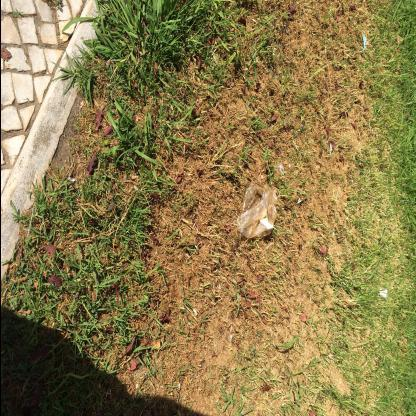plastik: (236, 183, 278, 241)
